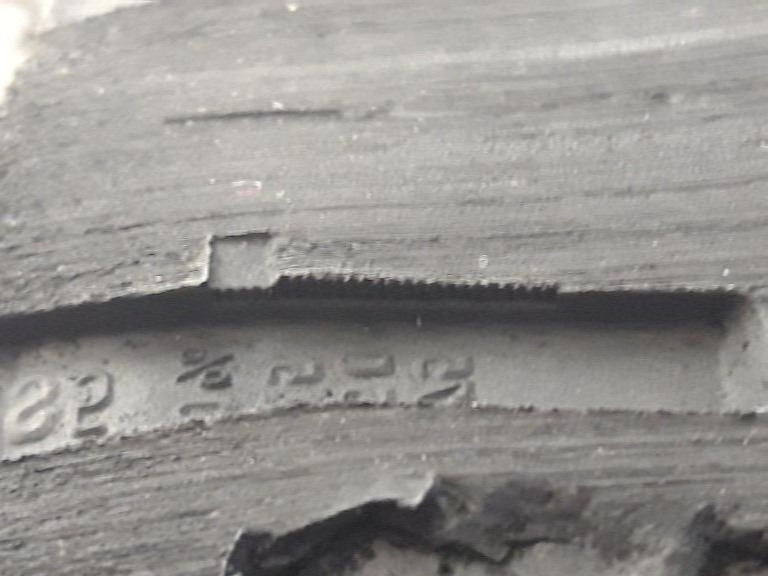temoin:0: (182, 212, 305, 332)
